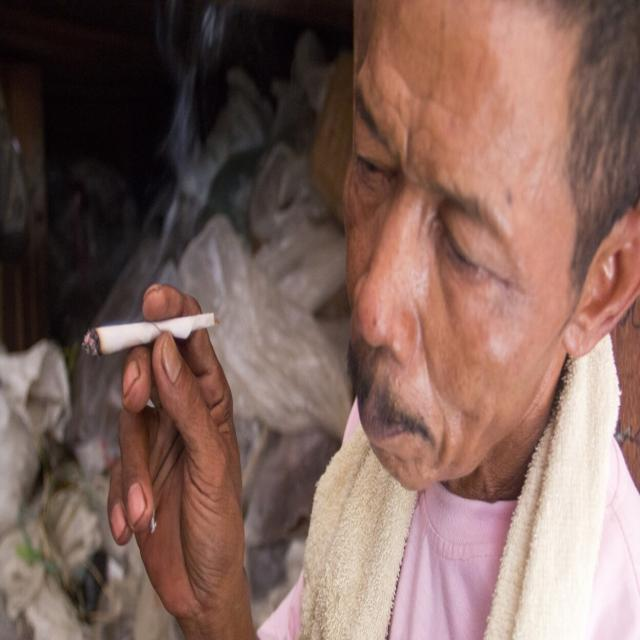rokok: (83, 303, 219, 355)
